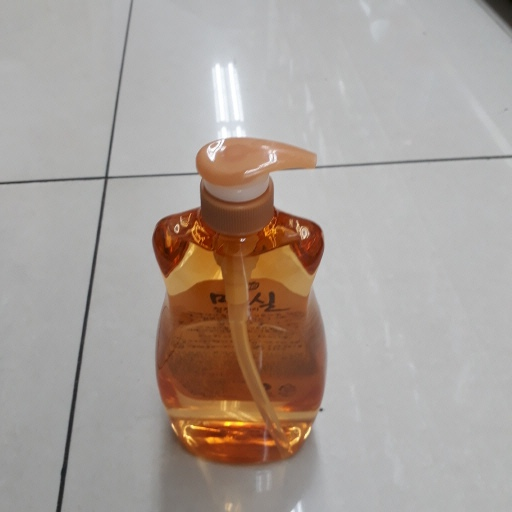Plastic_3: (146, 137, 328, 462)
